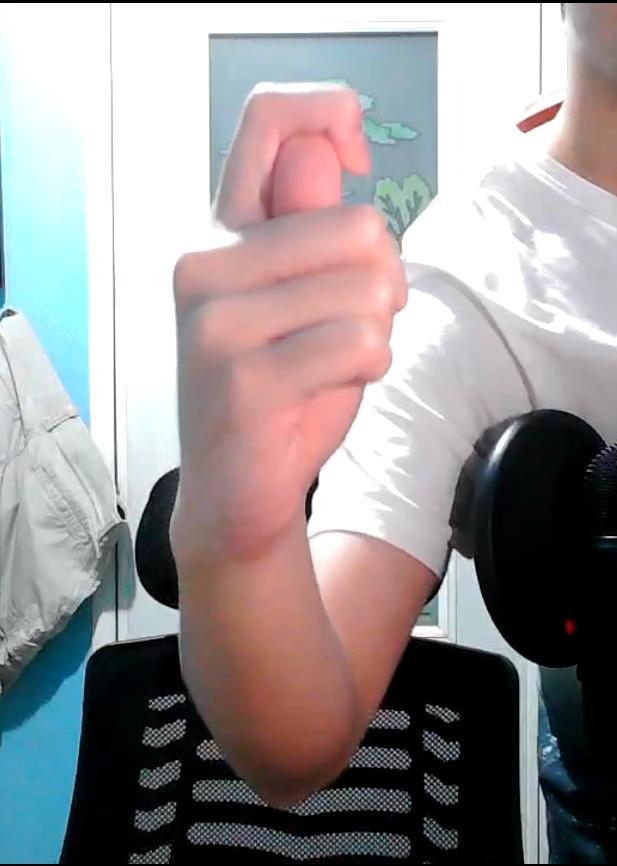t: (167, 79, 408, 535)
